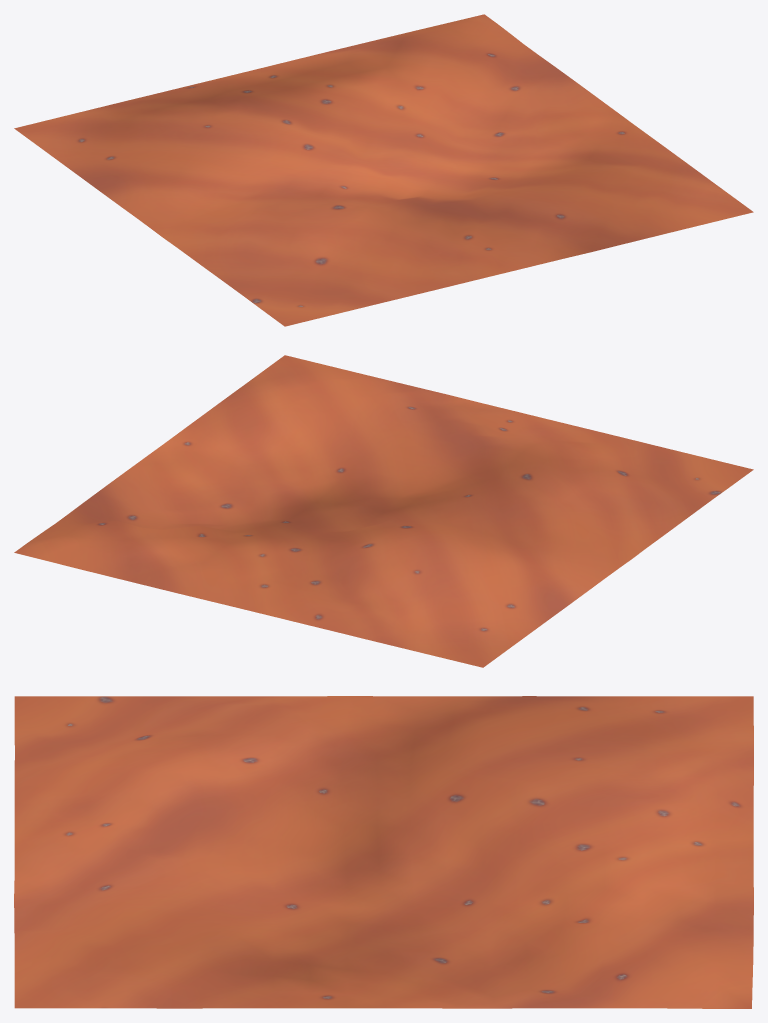
Rendered from SM_SandGeoDecal_03.fbx.
3 views of the same model, one above another, from view 1: azimuth 30°, elevation 25°; view 2: azimuth 150°, elevation 25°; view 3: azimuth 270°, elevation 25° (orthographic). The views are drawn at different scales.
Parts seen in each view (by area): view 1: SM_SandGéoDeca_03; view 2: SM_SandGéoDeca_03; view 3: SM_SandGéoDeca_03.
Boxes of the visible parts, box(x1,y1,x2,y2) form: SM_SandGéoDeca_03: box(14, 14, 753, 326); SM_SandGéoDeca_03: box(14, 355, 753, 667); SM_SandGéoDeca_03: box(14, 696, 753, 1008).
Bounding box in the file's own units: 401 × 34.29 × 401.
